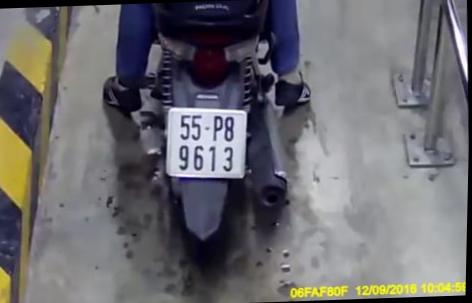LP: (163, 102, 252, 183)
